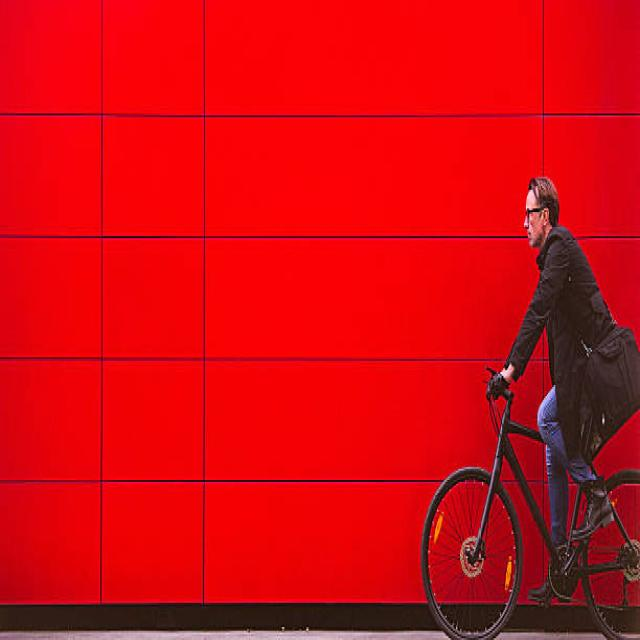bicycle: (421, 180, 640, 638)
